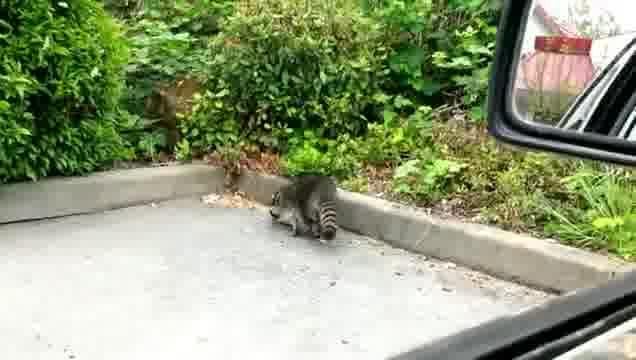raccoon: (270, 172, 339, 240)
